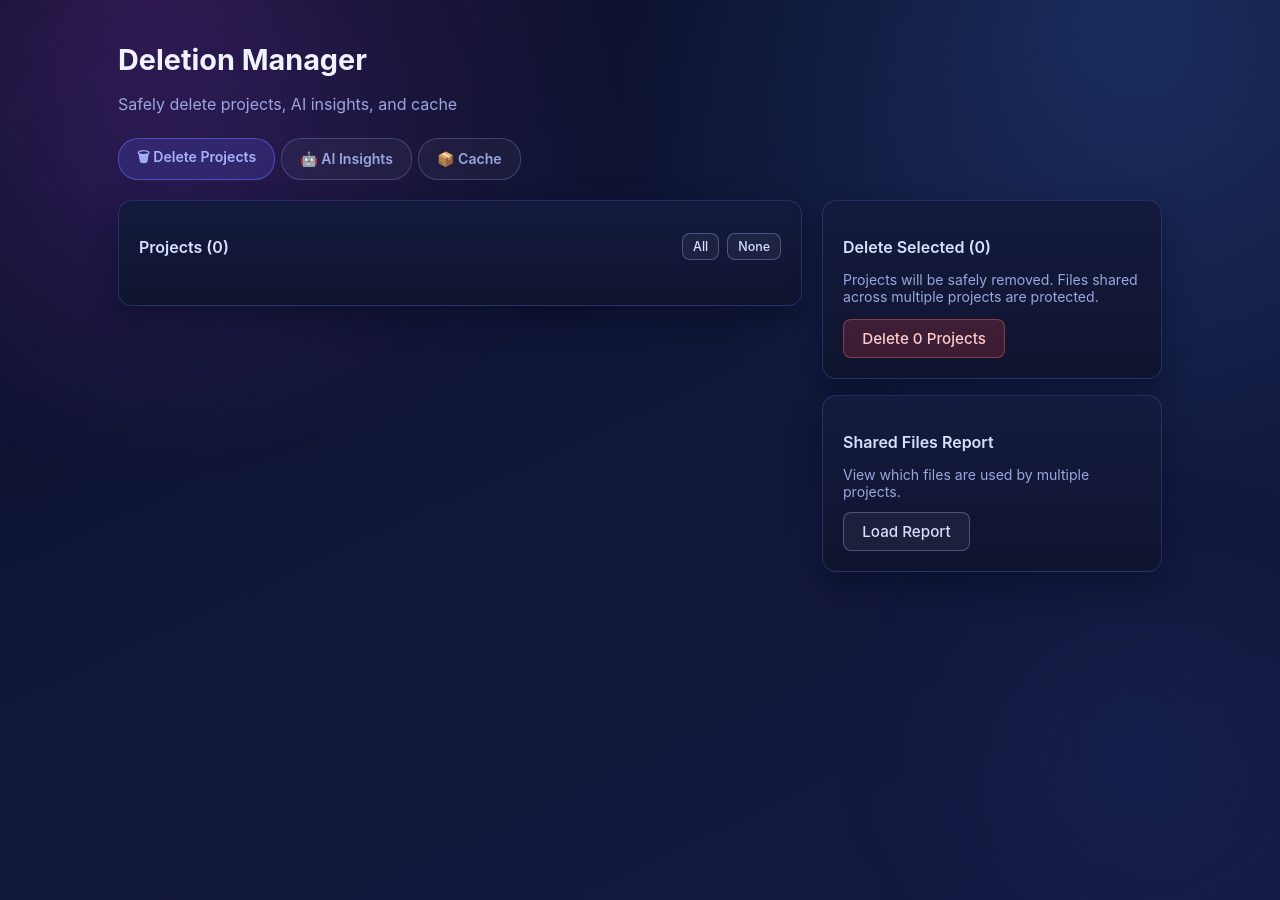
it: Deletion - Cache tab › switches to Cache tab
Click the button "📦 Cache" at (469, 159), box [418,138,521,180]
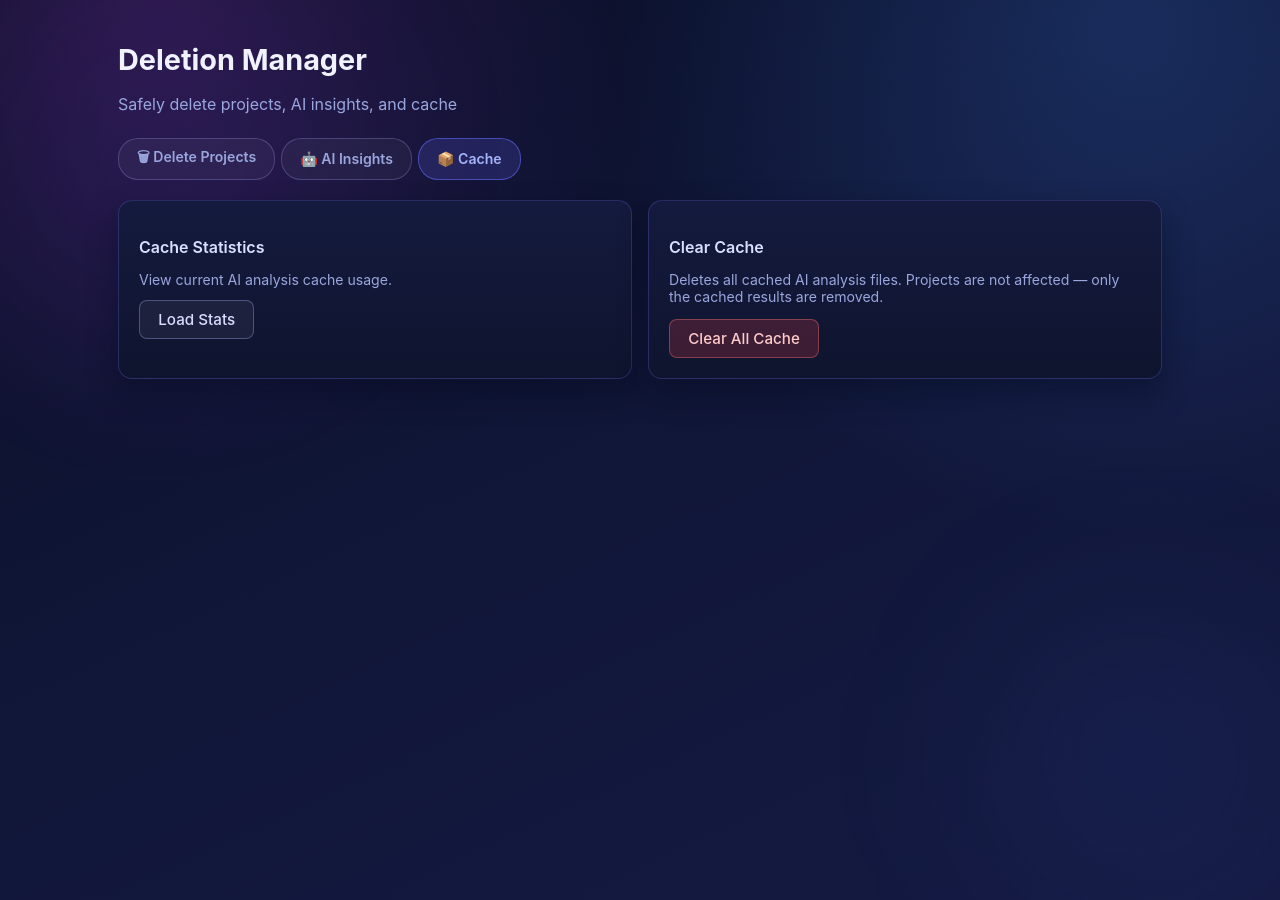
Expected: the heading "Cache Statistics" is shown, [139,237,264,257]
